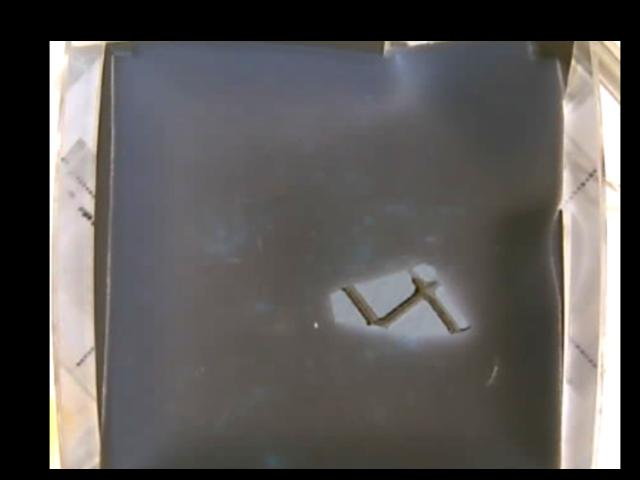China: (329, 263, 470, 340)
